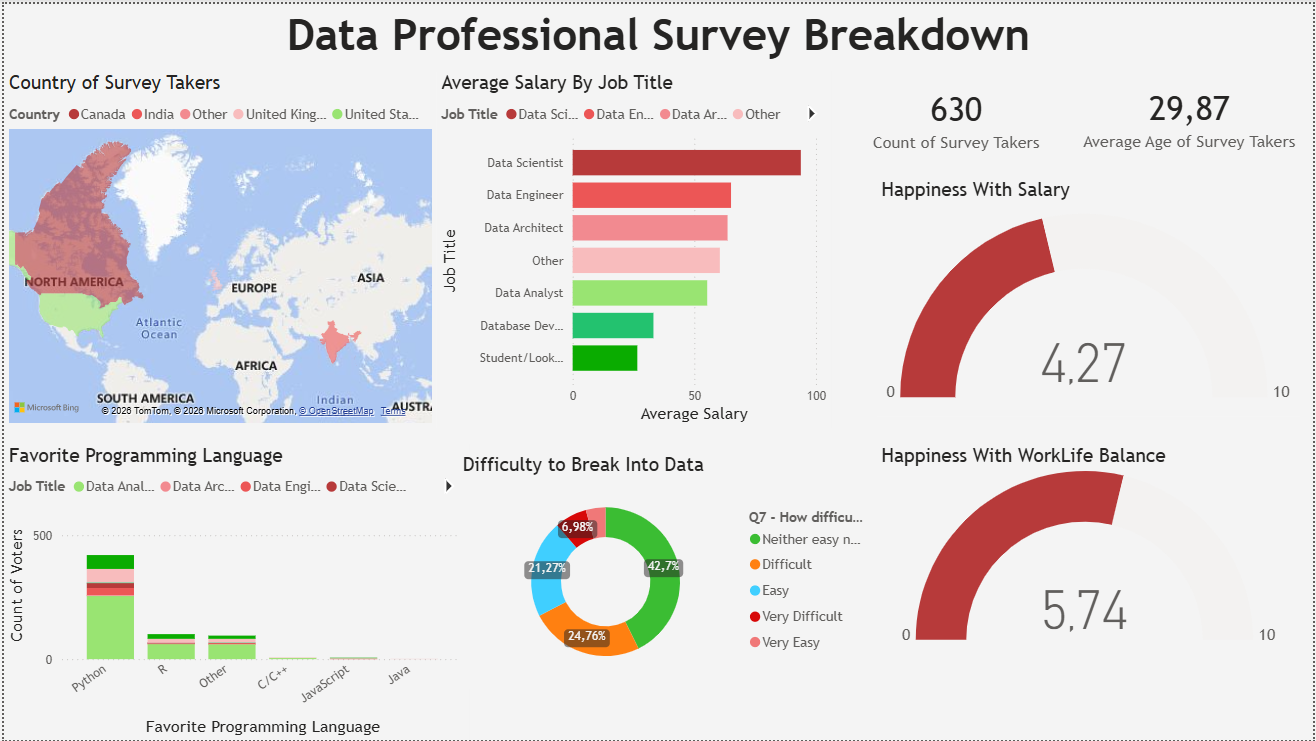

Layout of this report page (visuals, bound fields, positions):
{"tool":"powerbi","page":{"name":"Page 1","canvas":[1280,720],"ordinal":0},"visuals":[{"type":"textbox","box":[0,0,1280.3,61.7],"z":0},{"type":"card","fields":{"Values":["Count(Data Professional Survey.Unique ID)"]},"box":[832.7,66,198.1,91.7],"z":1000},{"type":"card","fields":{"Values":["Avg(Data Professional Survey.Q10 - Current Age)"]},"box":[1039.4,66,240.9,90.5],"z":2000},{"type":"barChart","title":"Average Salary By Job Title ","fields":{"Category":["Data Professional Survey.Q1 - Which Title Best Fits your Current Role?.1"],"Y":["Avg(Data Professional Survey.Average)"],"Series":["Data Professional Survey.Q1 - Which Title Best Fits your Current Role?.1"]},"box":[423.1,66,386.4,348.5],"z":2001},{"type":"columnChart","title":"Favorite Programming Language","fields":{"Category":["Data Professional Survey.Q5 - Favorite Programming Language.1"],"Y":["CountNonNull(Data Professional Survey.Unique ID)"],"Series":["Data Professional Survey.Q1 - Which Title Best Fits your Current Role?.1"]},"box":[0,430.4,454.9,289.8],"z":2002},{"type":"filledMap","title":"Country of Survey Takers","fields":{"Category":["Data Professional Survey.Q11 - Which Country do you live in?.1"],"Series":["Data Professional Survey.Q11 - Which Country do you live in?.1"]},"box":[0,66,423.1,348.5],"z":2003},{"type":"gauge","title":"Happiness With WorkLife Balance","fields":{"Y":["Avg(Data Professional Survey.Q6 - How Happy are you in your Current Position with the following? (Work/Life Balance))"],"MinValue":["Min(Data Professional Survey.Q6 - How Happy are you in your Current Position with the following? (Work/Life Balance))1"],"MaxValue":["Max(Data Professional Survey.Q6 - How Happy are you in your Current Position with the following? (Work/Life Balance))2"]},"box":[853.5,430.4,415.8,201.8],"z":2004},{"type":"gauge","title":"Happiness With Salary","fields":{"Y":["Avg(Data Professional Survey.Q6 - How Happy are you in your Current Position with the following? (Salary))"],"MinValue":["Min(Data Professional Survey.Q6 - How Happy are you in your Current Position with the following? (Salary))"],"MaxValue":["Max(Data Professional Survey.Q6 - How Happy are you in your Current Position with the following? (Salary))"]},"box":[853.5,170,414.5,233.6],"z":2005},{"type":"donutChart","title":"Difficulty to Break Into Data","fields":{"Category":["Data Professional Survey.Q7 - How difficult was it for you to break into Data?"],"Y":["CountNonNull(Data Professional Survey.Q7 - How difficult was it for you to break into Data?)"]},"box":[443.9,439,409.6,231.1],"z":2006}]}

Visuals, with their boxes in screenshot pixels (x1, y1, x2, y2), scaled from the page's 1280x720 canvas onto the 1316x741 screenshot:
textbox: pyautogui.locateOnScreen(0, 0, 1315, 63)
card - Count(Data Professional Survey.Unique ID): pyautogui.locateOnScreen(856, 68, 1060, 162)
card - Avg(Data Professional Survey.Q10 - Current Age): pyautogui.locateOnScreen(1069, 68, 1315, 161)
"Average Salary By Job Title " barChart: pyautogui.locateOnScreen(435, 68, 832, 427)
"Favorite Programming Language" columnChart: pyautogui.locateOnScreen(0, 443, 468, 740)
"Country of Survey Takers" filledMap: pyautogui.locateOnScreen(0, 68, 435, 427)
"Happiness With WorkLife Balance" gauge: pyautogui.locateOnScreen(878, 443, 1305, 651)
"Happiness With Salary" gauge: pyautogui.locateOnScreen(878, 175, 1304, 415)
"Difficulty to Break Into Data" donutChart: pyautogui.locateOnScreen(456, 452, 878, 690)
